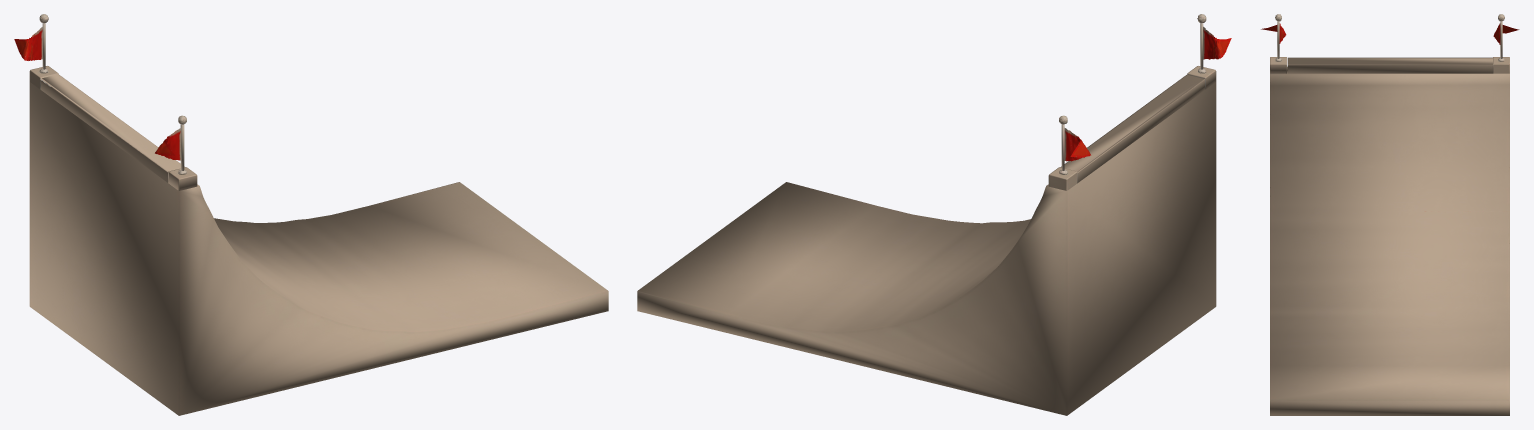
Rendered from ramp_03.glb.
3 renders of one model, left to right at view 1: azimuth 30°, elevation 25°; view 2: azimuth 150°, elevation 25°; view 3: azimuth 270°, elevation 25°, orthographic. The views are drawn at different scales.
Parts seen in each view (by area): view 1: tripo_node_811ba192-8790-44d3-ba28-b17d4a58b1ea; view 2: tripo_node_811ba192-8790-44d3-ba28-b17d4a58b1ea; view 3: tripo_node_811ba192-8790-44d3-ba28-b17d4a58b1ea.
Boxes of the visible parts, box(x1,y1,x2,y2) form: tripo_node_811ba192-8790-44d3-ba28-b17d4a58b1ea: box(14, 14, 608, 415); tripo_node_811ba192-8790-44d3-ba28-b17d4a58b1ea: box(637, 14, 1231, 415); tripo_node_811ba192-8790-44d3-ba28-b17d4a58b1ea: box(1261, 14, 1519, 415).
Size of the model in its own units: 0.998 by 0.6309 by 0.627.
1 material, 1 textured.
